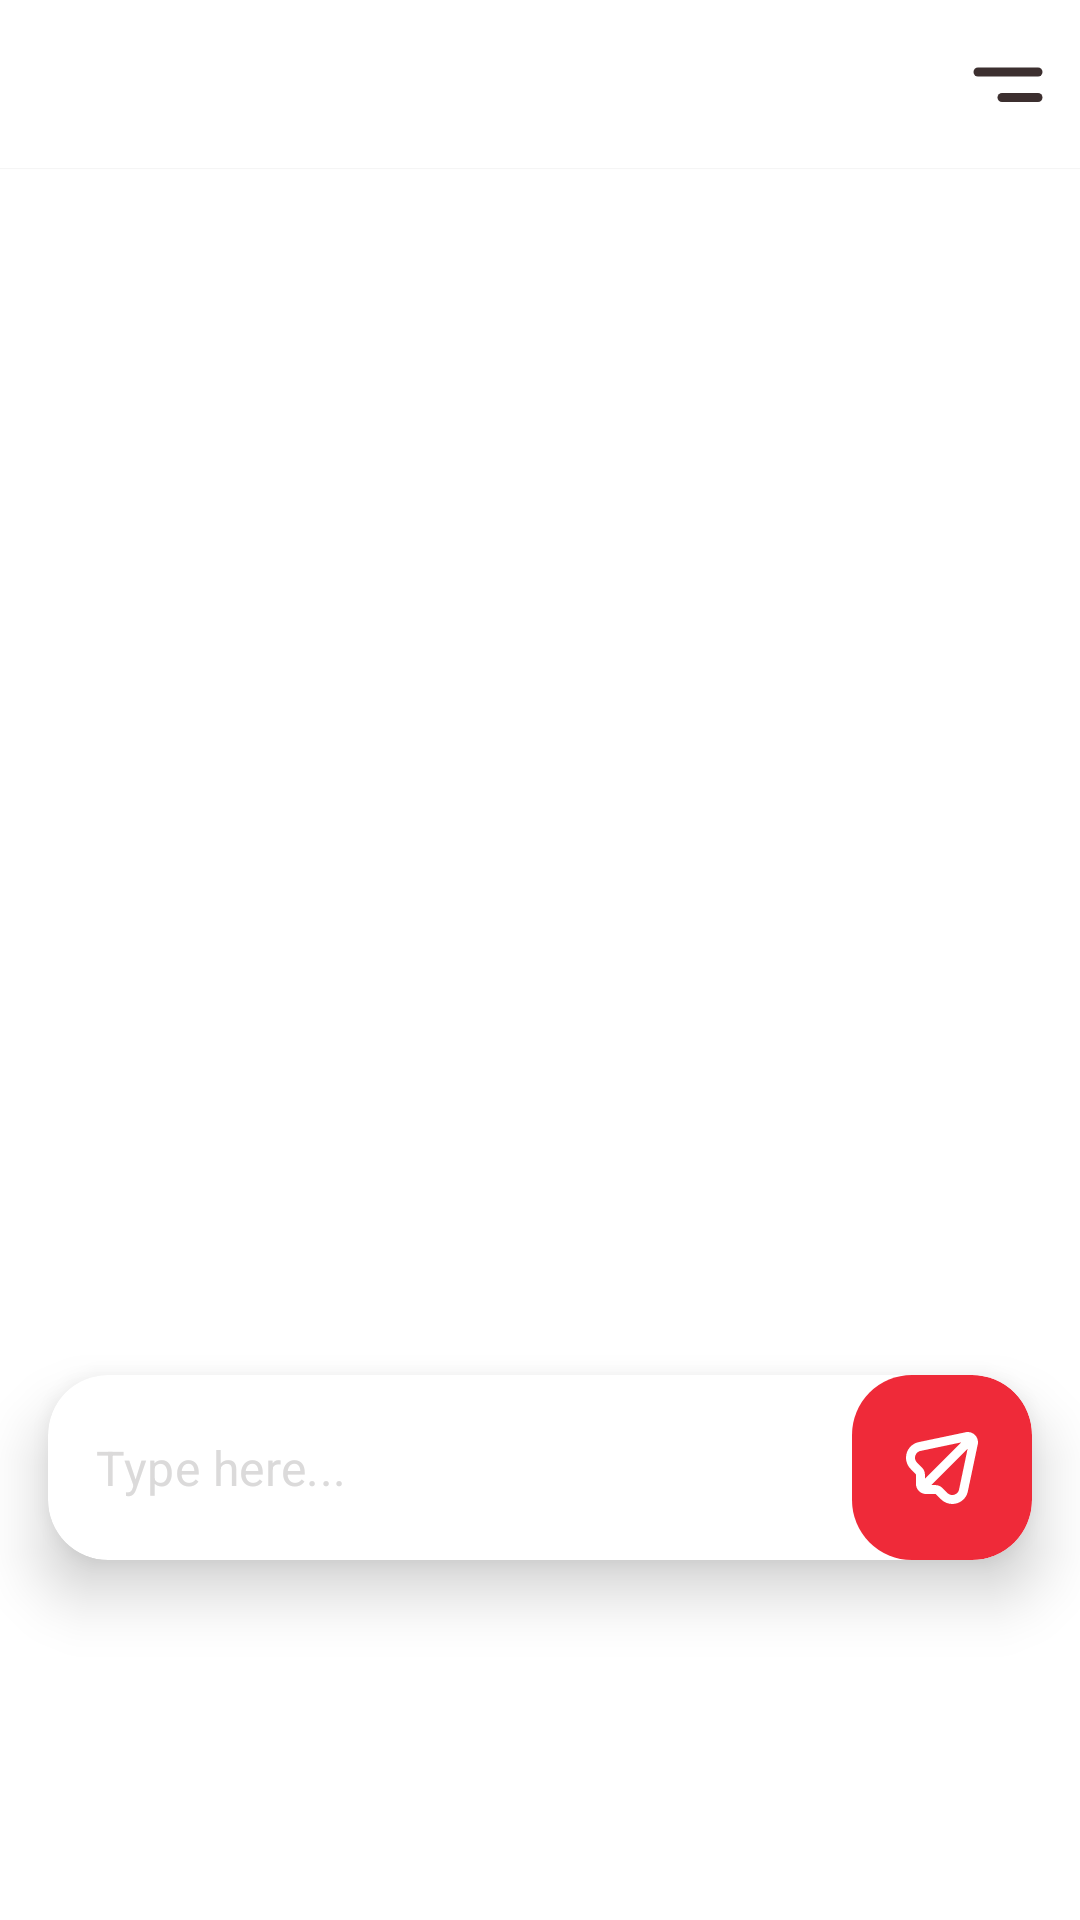

Icons on this 1080x1920 Android screen, each with the point to tap as point (x, y):
send: point (942, 1467)
